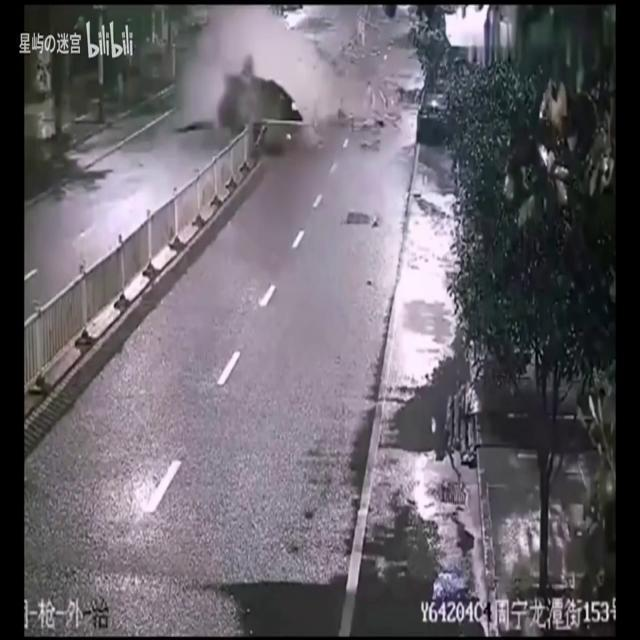accident: (172, 48, 412, 158)
